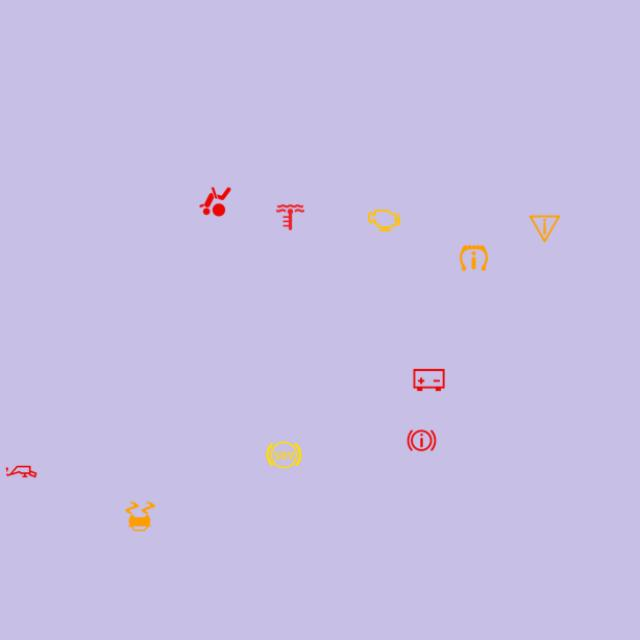Anti Lock Braking System: (265, 436, 303, 474)
Braking System Issue: (402, 421, 441, 460)
Charging System Issue: (410, 361, 448, 399)
Check Engine: (365, 201, 403, 240)
Electronic Stability Problem -ESP-: (121, 497, 159, 536)
Engine Overheating Warning Light: (271, 198, 310, 237)
Low Engine Oil Warning Light: (2, 452, 41, 491)
Low Tire Pressure Warning Light: (454, 239, 493, 277)
Master warning light: (525, 210, 564, 248)
SRS-Airbag: (196, 182, 234, 221)
